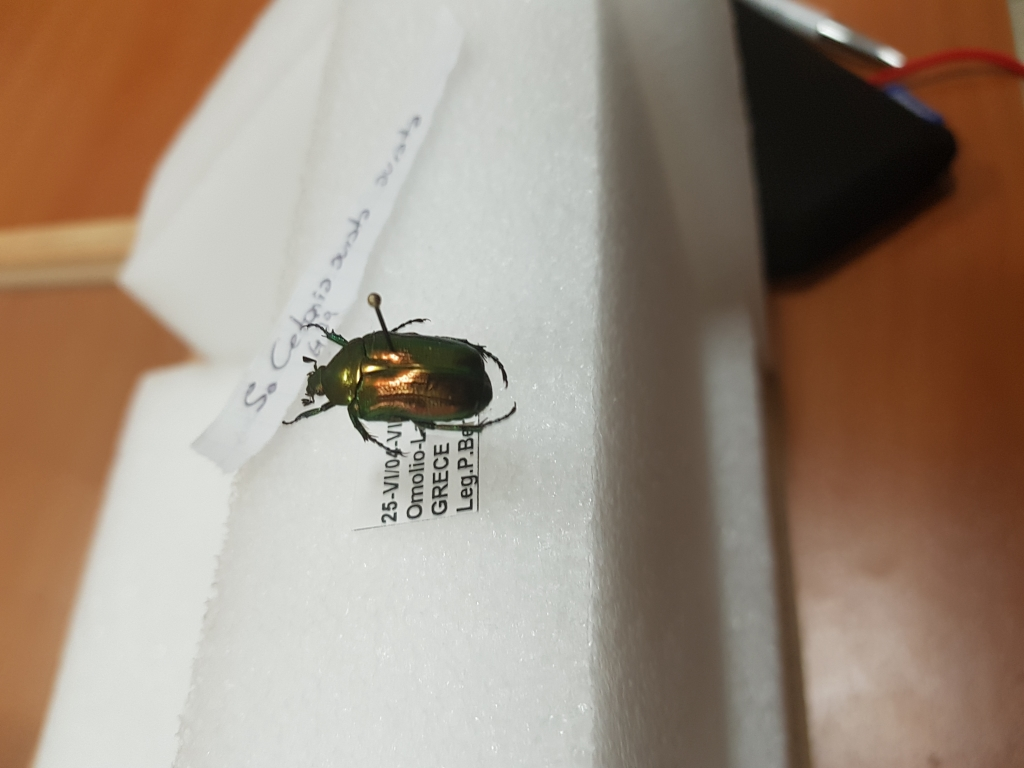Cetonia_aurata: (276, 308, 522, 446)
